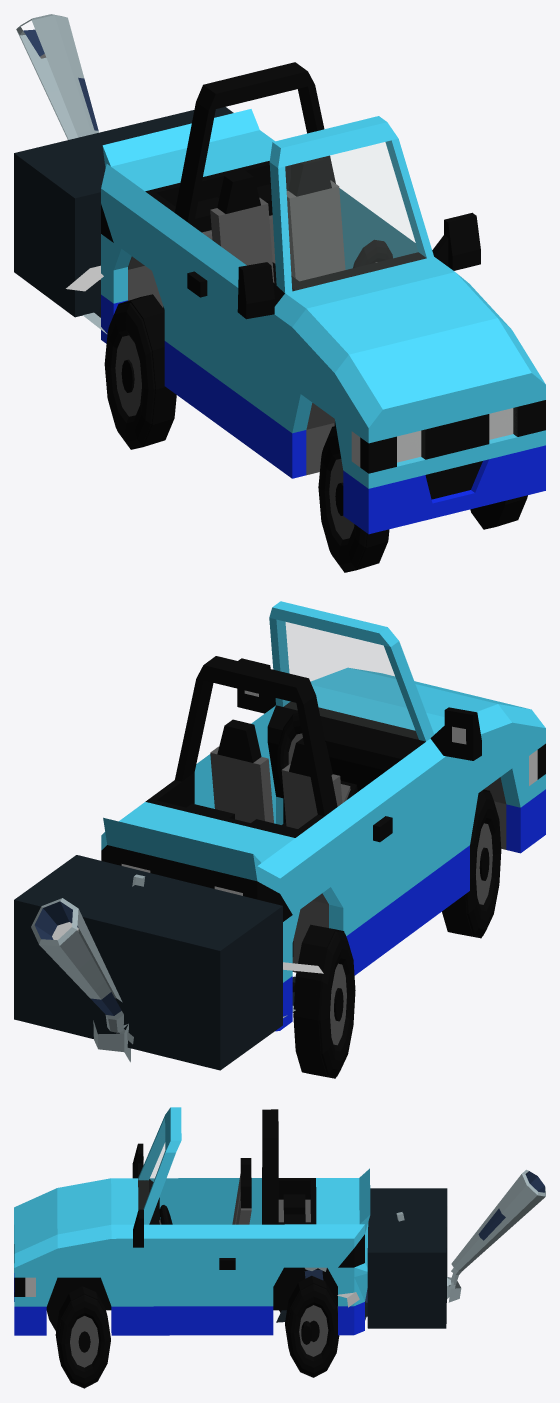
The model's file is Race_Sky.obj.
3 renders of one model, top to bottom at view 1: azimuth 30°, elevation 25°; view 2: azimuth 150°, elevation 25°; view 3: azimuth 270°, elevation 25°, orthographic. The views are drawn at different scales.
Parts seen in each view (by area): view 1: Kart_mesh1480503202_Kart_mesh1480503202, Kart_Cube.002_Kart_Cube.002_Kart_Cube.002_Kart_Cube.002, mesh1909746902_mesh1909746902_mesh1909746902_mesh1909746902, mesh1124309479_mesh1124309479_mesh1124309479_mesh1124309479, mesh2142174699_mesh2142174699_mesh2142174699_mesh2142174699; view 2: Kart_mesh1480503202_Kart_mesh1480503202, Kart_Cube.002_Kart_Cube.002_Kart_Cube.002_Kart_Cube.002, mesh1909746902_mesh1909746902_mesh1909746902_mesh1909746902, mesh1124309479_mesh1124309479_mesh1124309479_mesh1124309479; view 3: Kart_mesh1480503202_Kart_mesh1480503202, Kart_Cube.002_Kart_Cube.002_Kart_Cube.002_Kart_Cube.002, mesh2142174699_mesh2142174699_mesh2142174699_mesh2142174699, mesh1043479446_mesh1043479446_mesh1043479446_mesh1043479446.
Part boxes in pixels (x1=…): Kart_mesh1480503202_Kart_mesh1480503202: x1=101, y1=62, x2=545, y2=534; Kart_Cube.002_Kart_Cube.002_Kart_Cube.002_Kart_Cube.002: x1=14, y1=14, x2=233, y2=333; mesh1909746902_mesh1909746902_mesh1909746902_mesh1909746902: x1=104, y1=294, x2=176, y2=449; mesh1124309479_mesh1124309479_mesh1124309479_mesh1124309479: x1=318, y1=426, x2=389, y2=572; mesh2142174699_mesh2142174699_mesh2142174699_mesh2142174699: x1=470, y1=495, x2=527, y2=529; Kart_mesh1480503202_Kart_mesh1480503202: x1=101, y1=601, x2=545, y2=1031; Kart_Cube.002_Kart_Cube.002_Kart_Cube.002_Kart_Cube.002: x1=14, y1=855, x2=323, y2=1070; mesh1909746902_mesh1909746902_mesh1909746902_mesh1909746902: x1=293, y1=924, x2=355, y2=1078; mesh1124309479_mesh1124309479_mesh1124309479_mesh1124309479: x1=442, y1=789, x2=501, y2=938; Kart_mesh1480503202_Kart_mesh1480503202: x1=14, y1=1107, x2=370, y2=1344; Kart_Cube.002_Kart_Cube.002_Kart_Cube.002_Kart_Cube.002: x1=276, y1=1169, x2=545, y2=1328; mesh2142174699_mesh2142174699_mesh2142174699_mesh2142174699: x1=55, y1=1286, x2=110, y2=1388; mesh1043479446_mesh1043479446_mesh1043479446_mesh1043479446: x1=285, y1=1275, x2=339, y2=1377.
Bounding box in the file's own units: 1.04 × 1.47 × 3.06.
